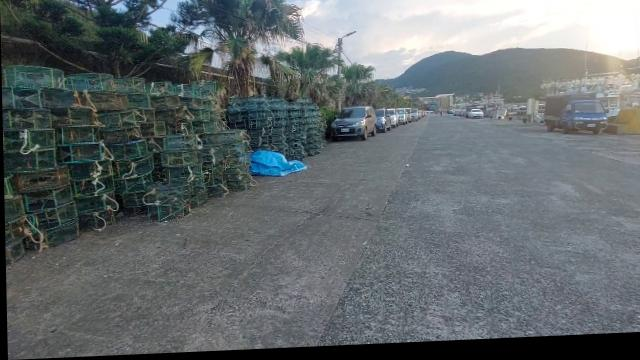pollute: (249, 151, 307, 179)
